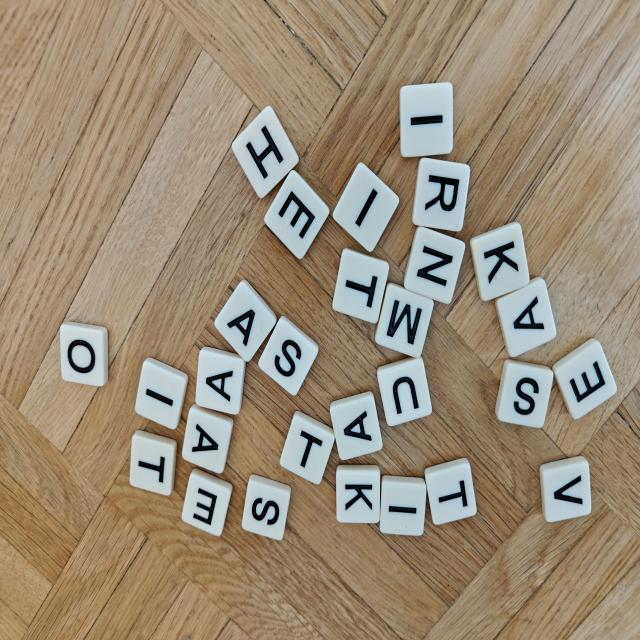a: (214, 280, 276, 361), (496, 277, 556, 358), (330, 391, 382, 460), (182, 404, 233, 473), (195, 348, 245, 414)
e: (265, 170, 329, 258), (552, 338, 617, 419), (182, 469, 232, 536)
h: (232, 106, 299, 198)
i: (333, 163, 399, 251), (400, 82, 453, 157), (135, 358, 188, 429), (380, 475, 427, 535)
k: (470, 222, 530, 301), (336, 465, 381, 523)
m: (375, 283, 433, 357)
n: (404, 227, 465, 303)
o: (60, 322, 108, 386)
r: (412, 158, 470, 231)
s: (259, 316, 318, 395), (495, 360, 553, 428), (242, 474, 290, 540)
t: (333, 248, 389, 323), (280, 411, 335, 484), (425, 458, 477, 525), (130, 430, 177, 495)
u: (377, 356, 432, 426)
v: (540, 456, 591, 522)
